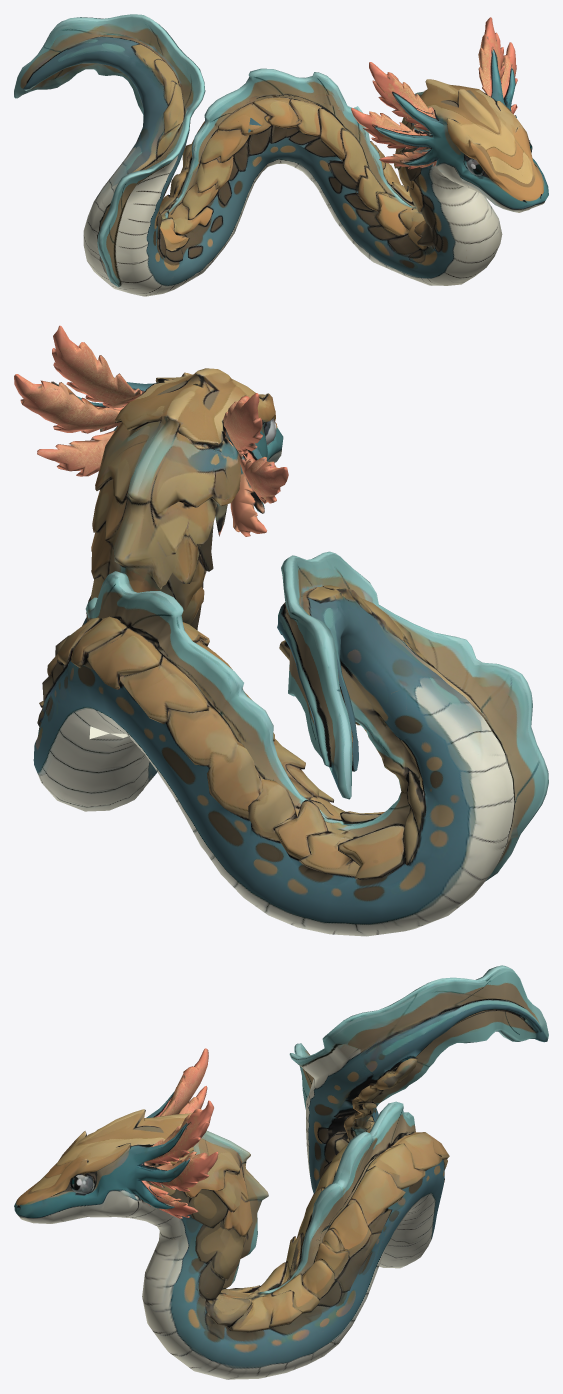
The model's file is Pok21. Sierpajable.glb.
3 views of the same model, one above another, from view 1: azimuth 30°, elevation 25°; view 2: azimuth 150°, elevation 25°; view 3: azimuth 270°, elevation 25° (orthographic). The views are drawn at different scales.
Size of the model in its own units: 0.8813 by 0.5874 by 0.9585.
1 material, 1 textured.
